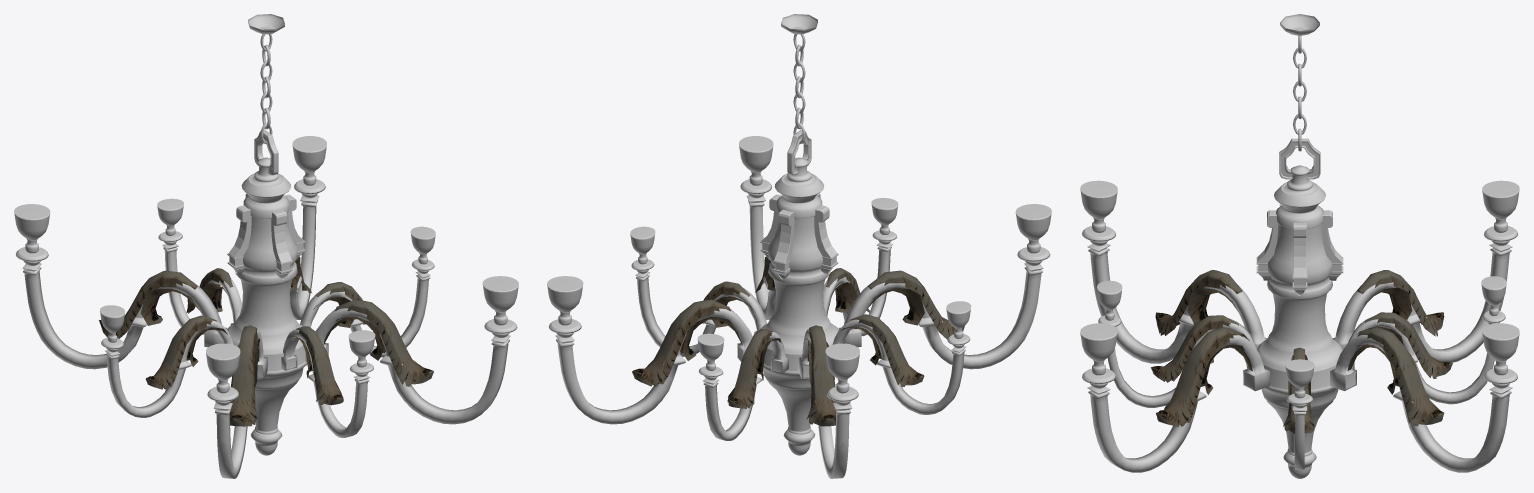
Rendered from chandelier.fbx.
3 views of the same model, side by side, from view 1: azimuth 30°, elevation 25°; view 2: azimuth 150°, elevation 25°; view 3: azimuth 270°, elevation 25° (orthographic). The views are drawn at different scales.
Visible parts, largest first — view 1: decor_low1; view 2: decor_low1; view 3: decor_low1.
Boxes of the visible parts, left/top/right/bottom form: decor_low1: left=14, top=14, right=518, bottom=478; decor_low1: left=547, top=14, right=1051, bottom=478; decor_low1: left=1080, top=14, right=1519, bottom=478.
Size of the model in its own units: 1.79 by 2.22 by 1.94.
